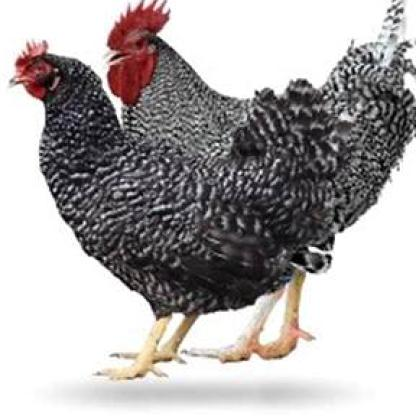chicken: (9, 39, 355, 380), (100, 0, 415, 367)
